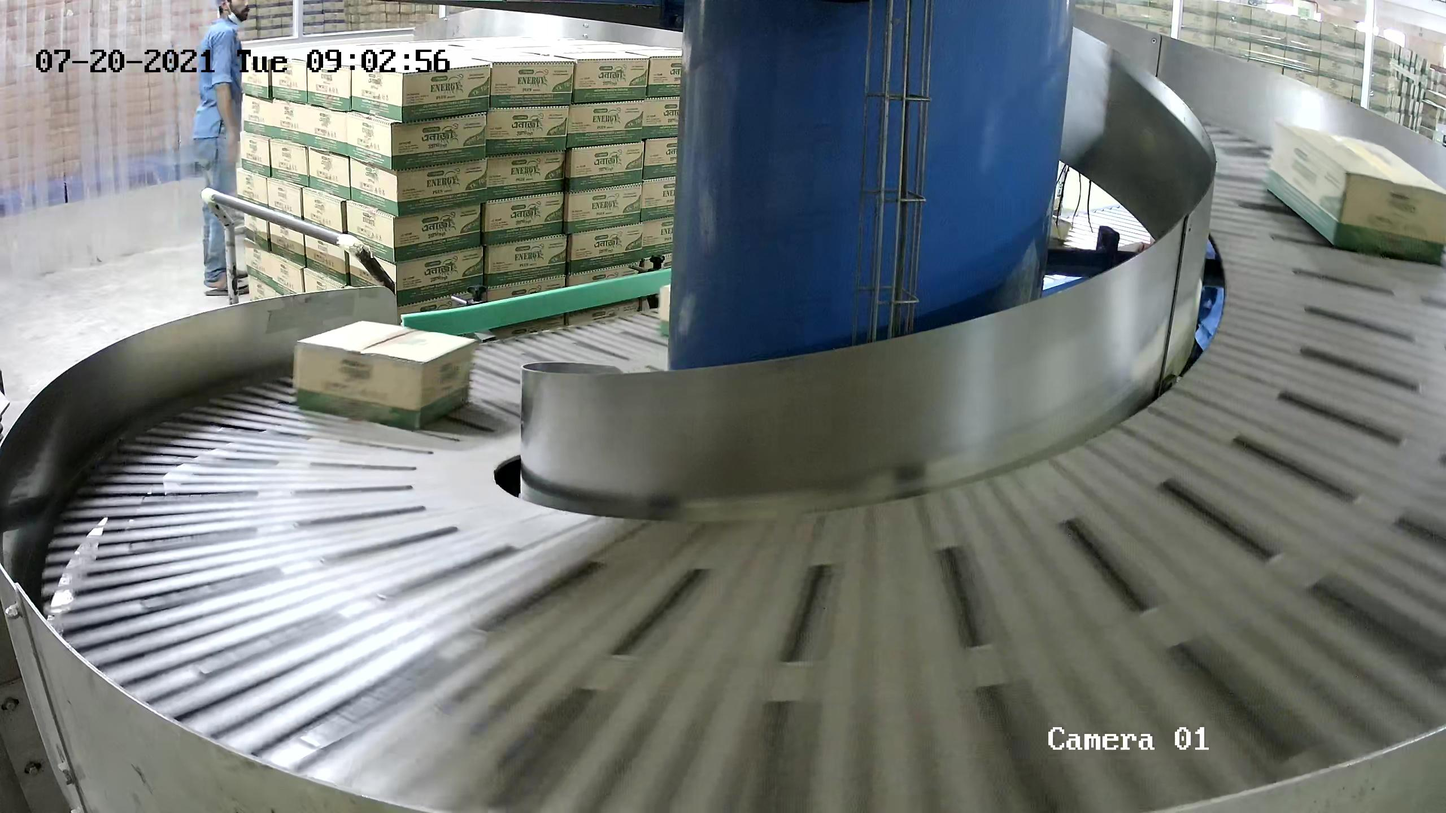Box: (1261, 118, 1446, 265), (292, 320, 477, 431)
